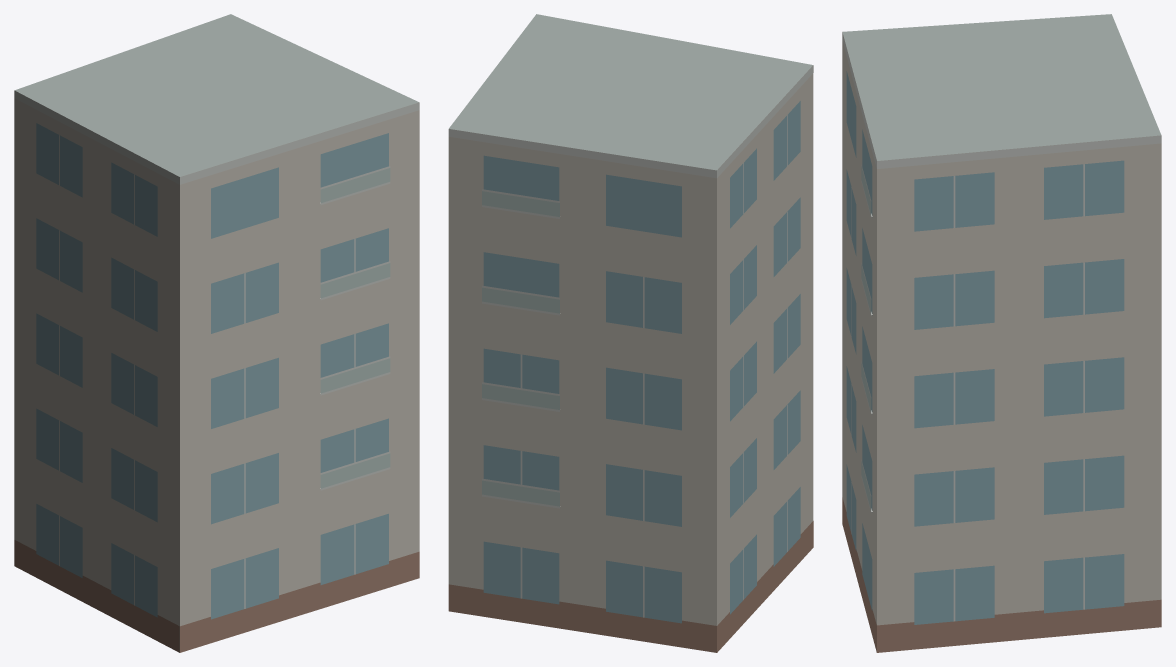
File: survey-upis-32738776.glb
The picture shows the model from 3 angles, left to right: view 1: azimuth 30°, elevation 25°; view 2: azimuth 150°, elevation 25°; view 3: azimuth 270°, elevation 25°; orthographic projection. The views are drawn at different scales.
Parts seen in each view (by area): view 1: survey-upis-32738776.tmp; view 2: survey-upis-32738776.tmp; view 3: survey-upis-32738776.tmp.
Part boxes in pixels (box(x1,y1,x2,y2)): survey-upis-32738776.tmp: box(14, 14, 419, 652); survey-upis-32738776.tmp: box(448, 14, 813, 652); survey-upis-32738776.tmp: box(842, 14, 1161, 652).
Bounding box in the file's own units: 9.57 × 14.9 × 8.77.
